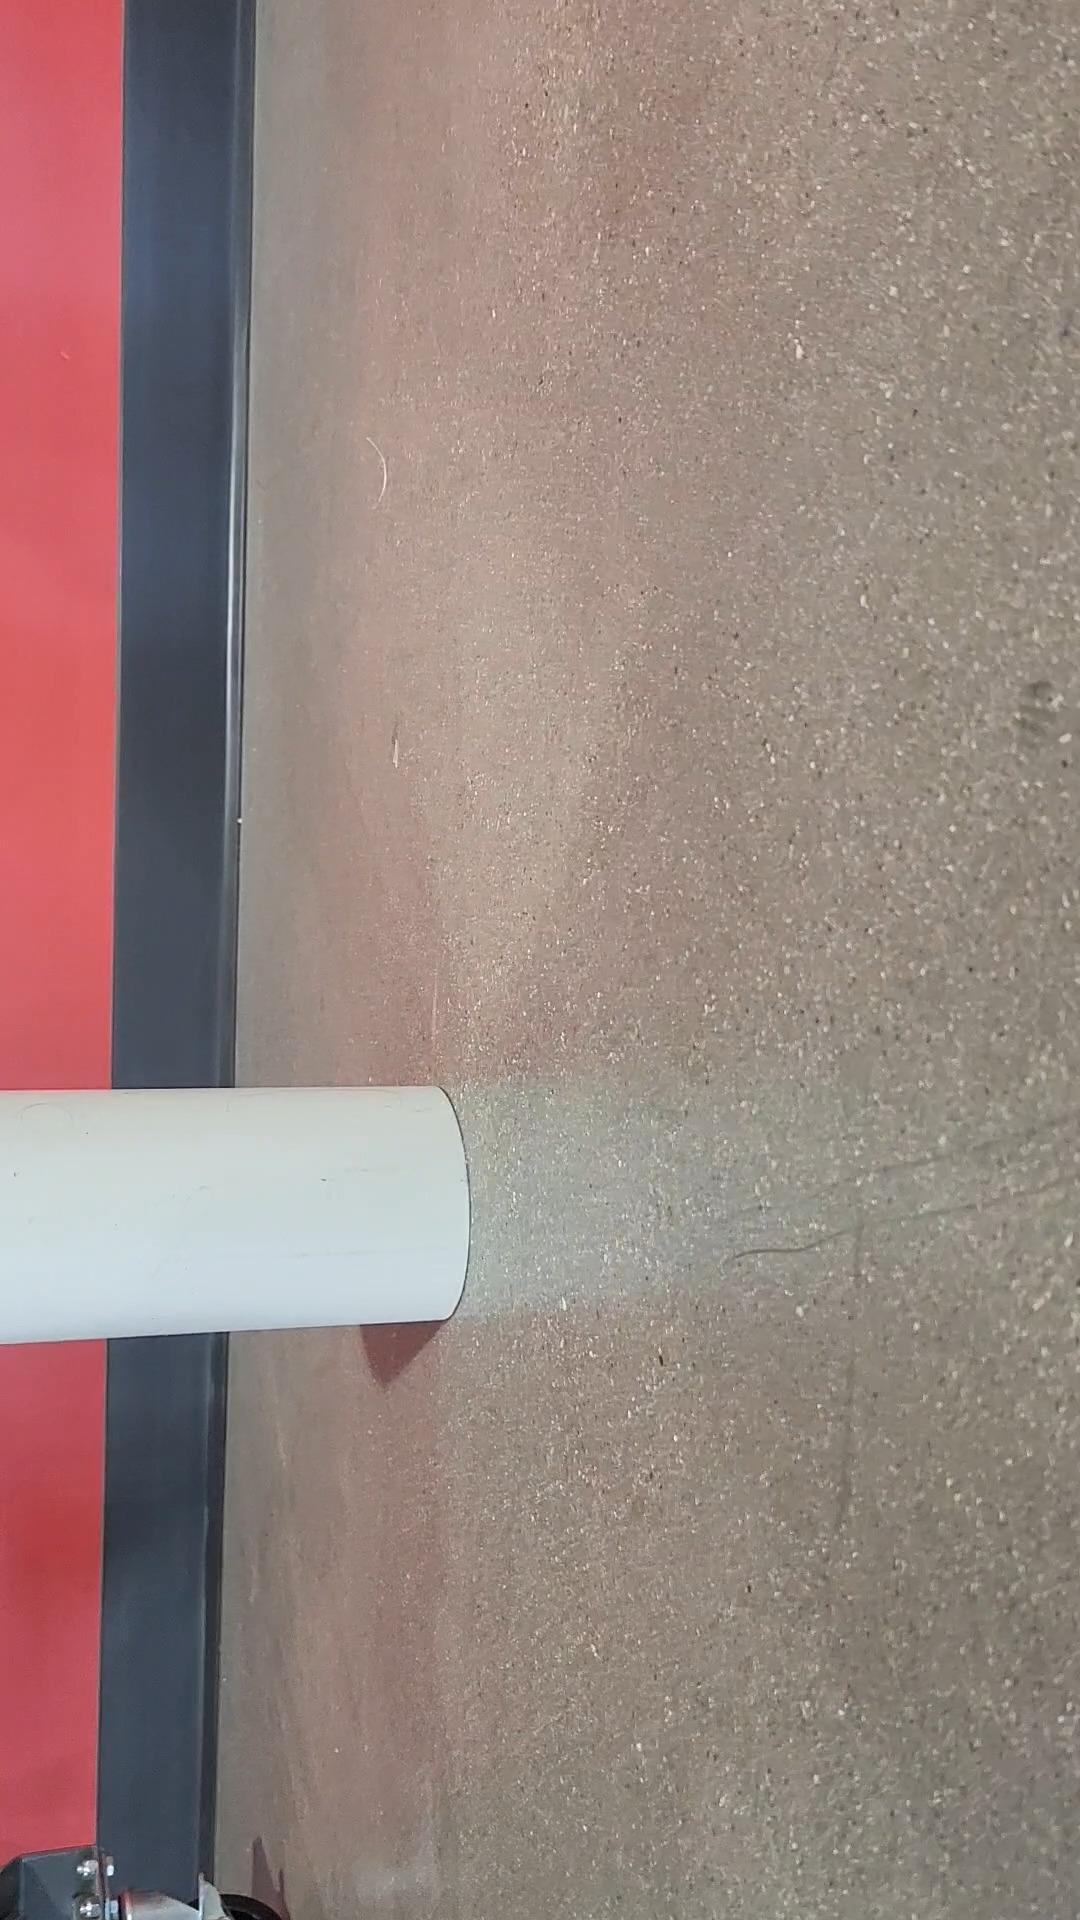coral: (0, 1071, 491, 1353)
